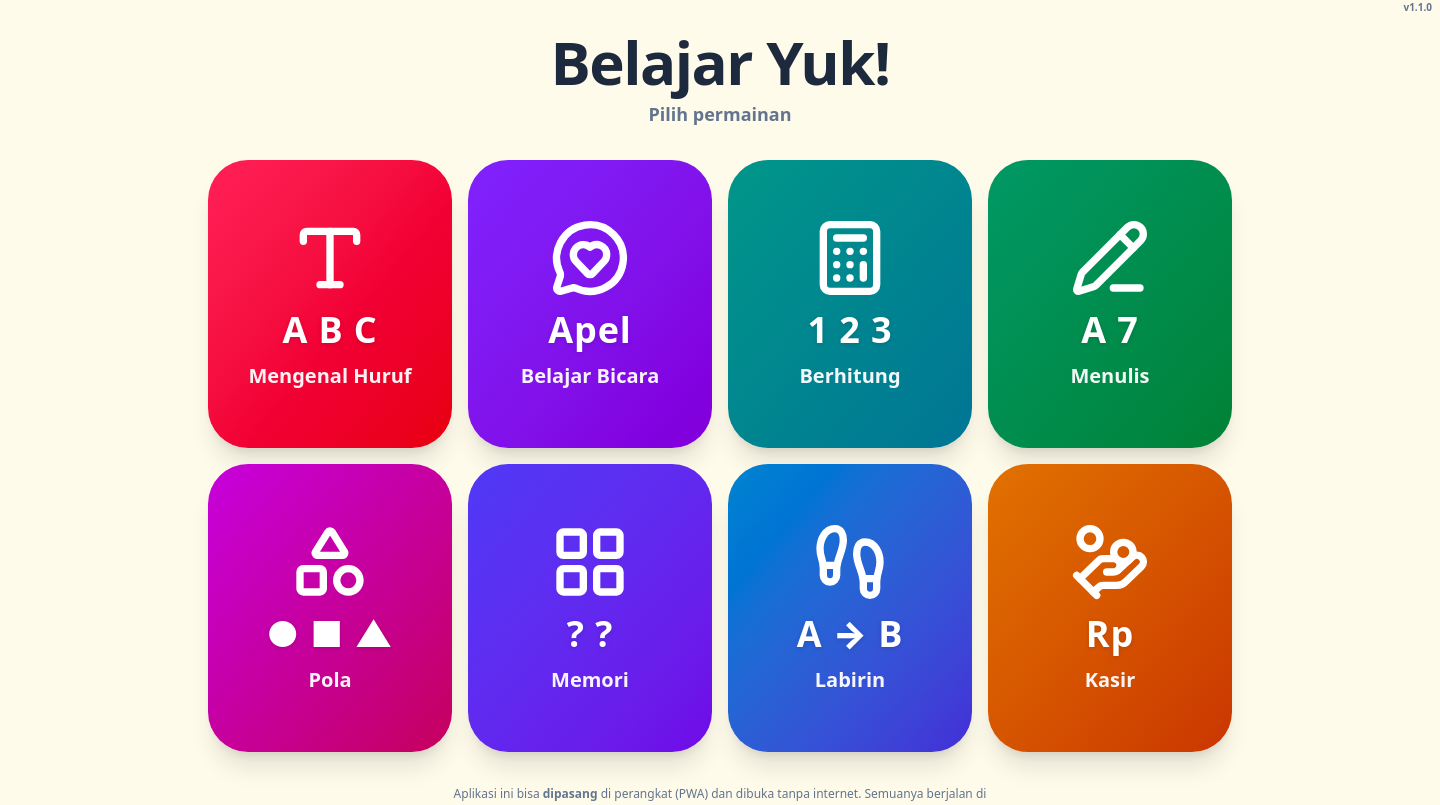
Test case: Pola › Baris: a row of shapes › a right pick › fills the place, takes the tray away, and says the whole row
Click the button "● ■ ▲ Pola" at (330, 608), box [208,464,452,752]
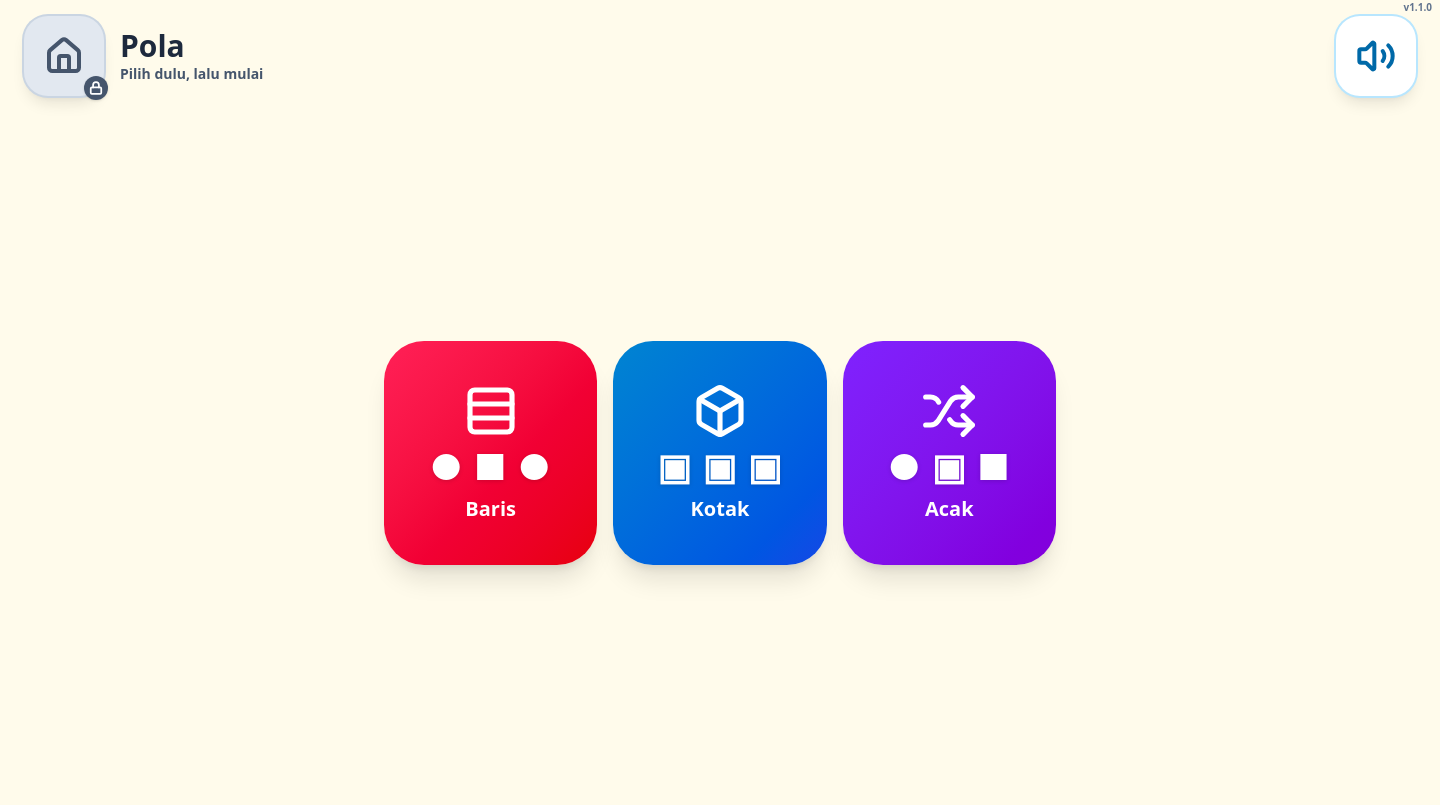
Click the button "● ■ ● Baris" at (491, 453), box [384,341,597,565]
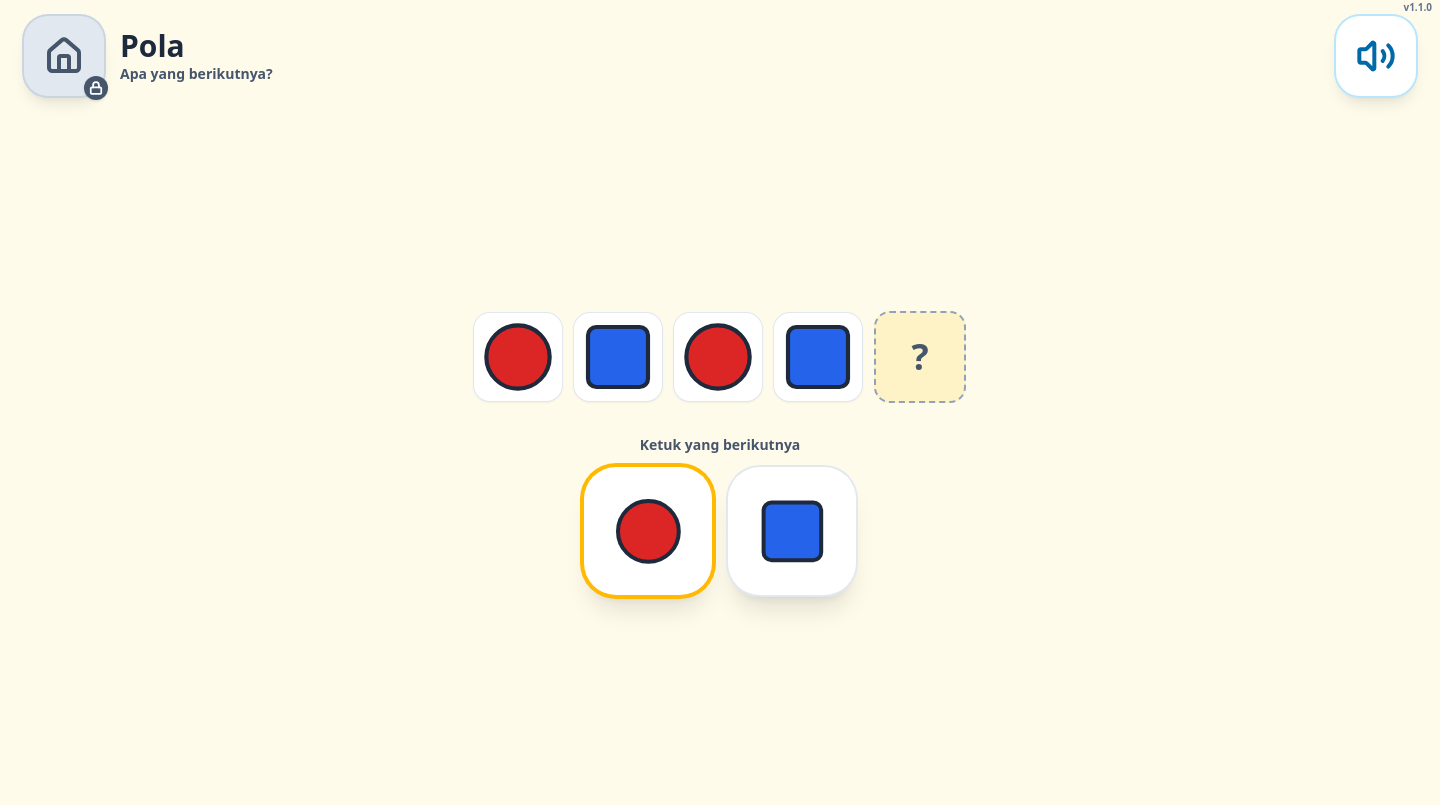
Click the button named "Pilih merah" at (648, 531), box [584,467,712,595]
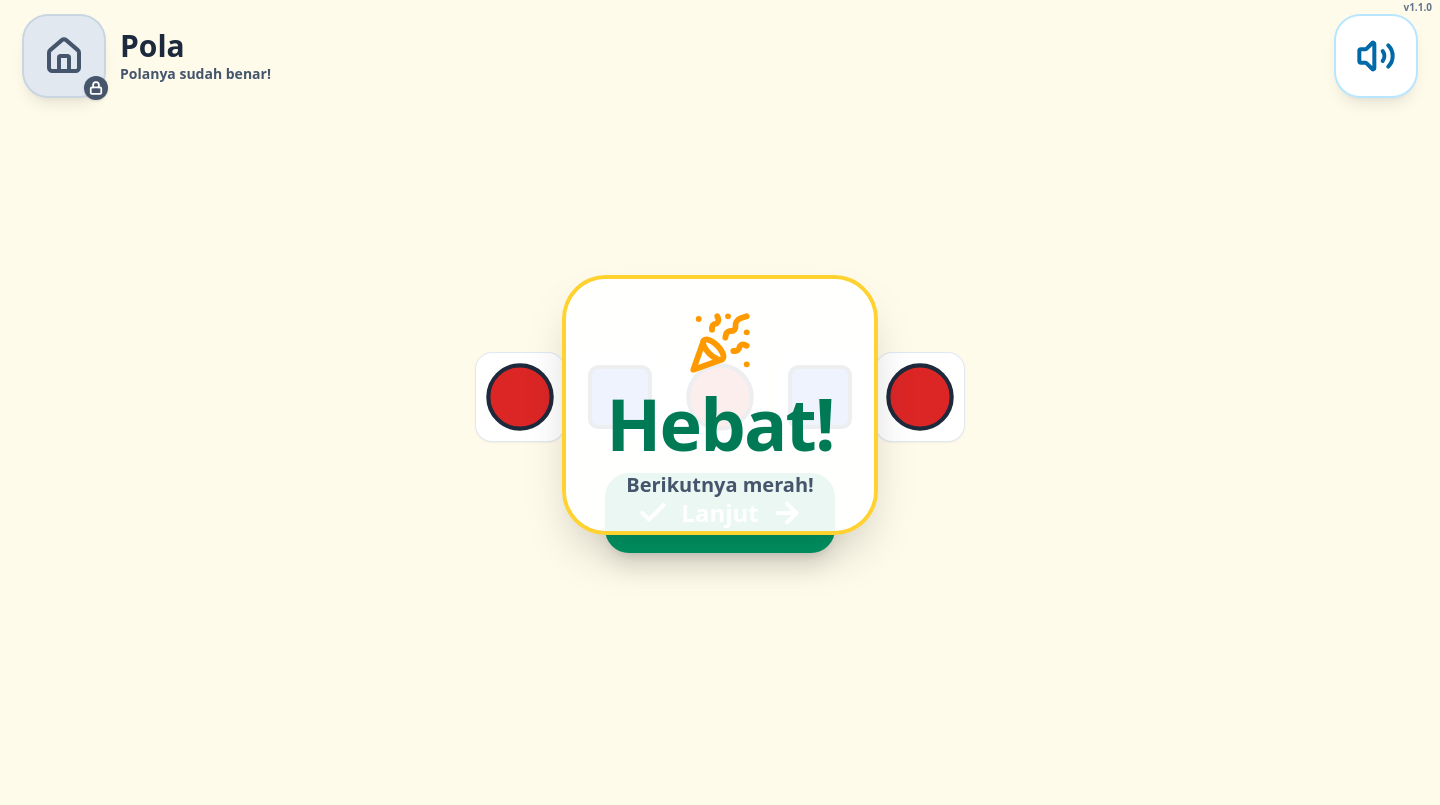
Expected: the text "Polanya sudah benar!" is shown, [120,64,271,83]
Expected: the button with aria-label "Pola berikutnya" is shown, [605,473,835,553]
